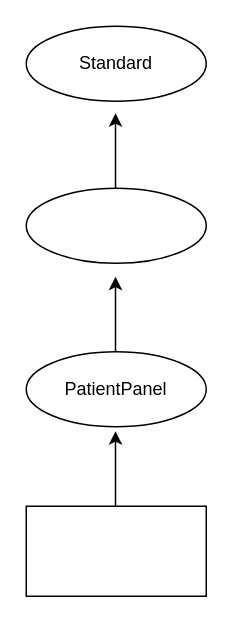
This 233x623 diagram has some shape labels left out. Each missing label, with the centre of its shape:
"PatientPanel1" goes at (x=115, y=550).
"PatientPanelKernel" goes at (x=115, y=225).
